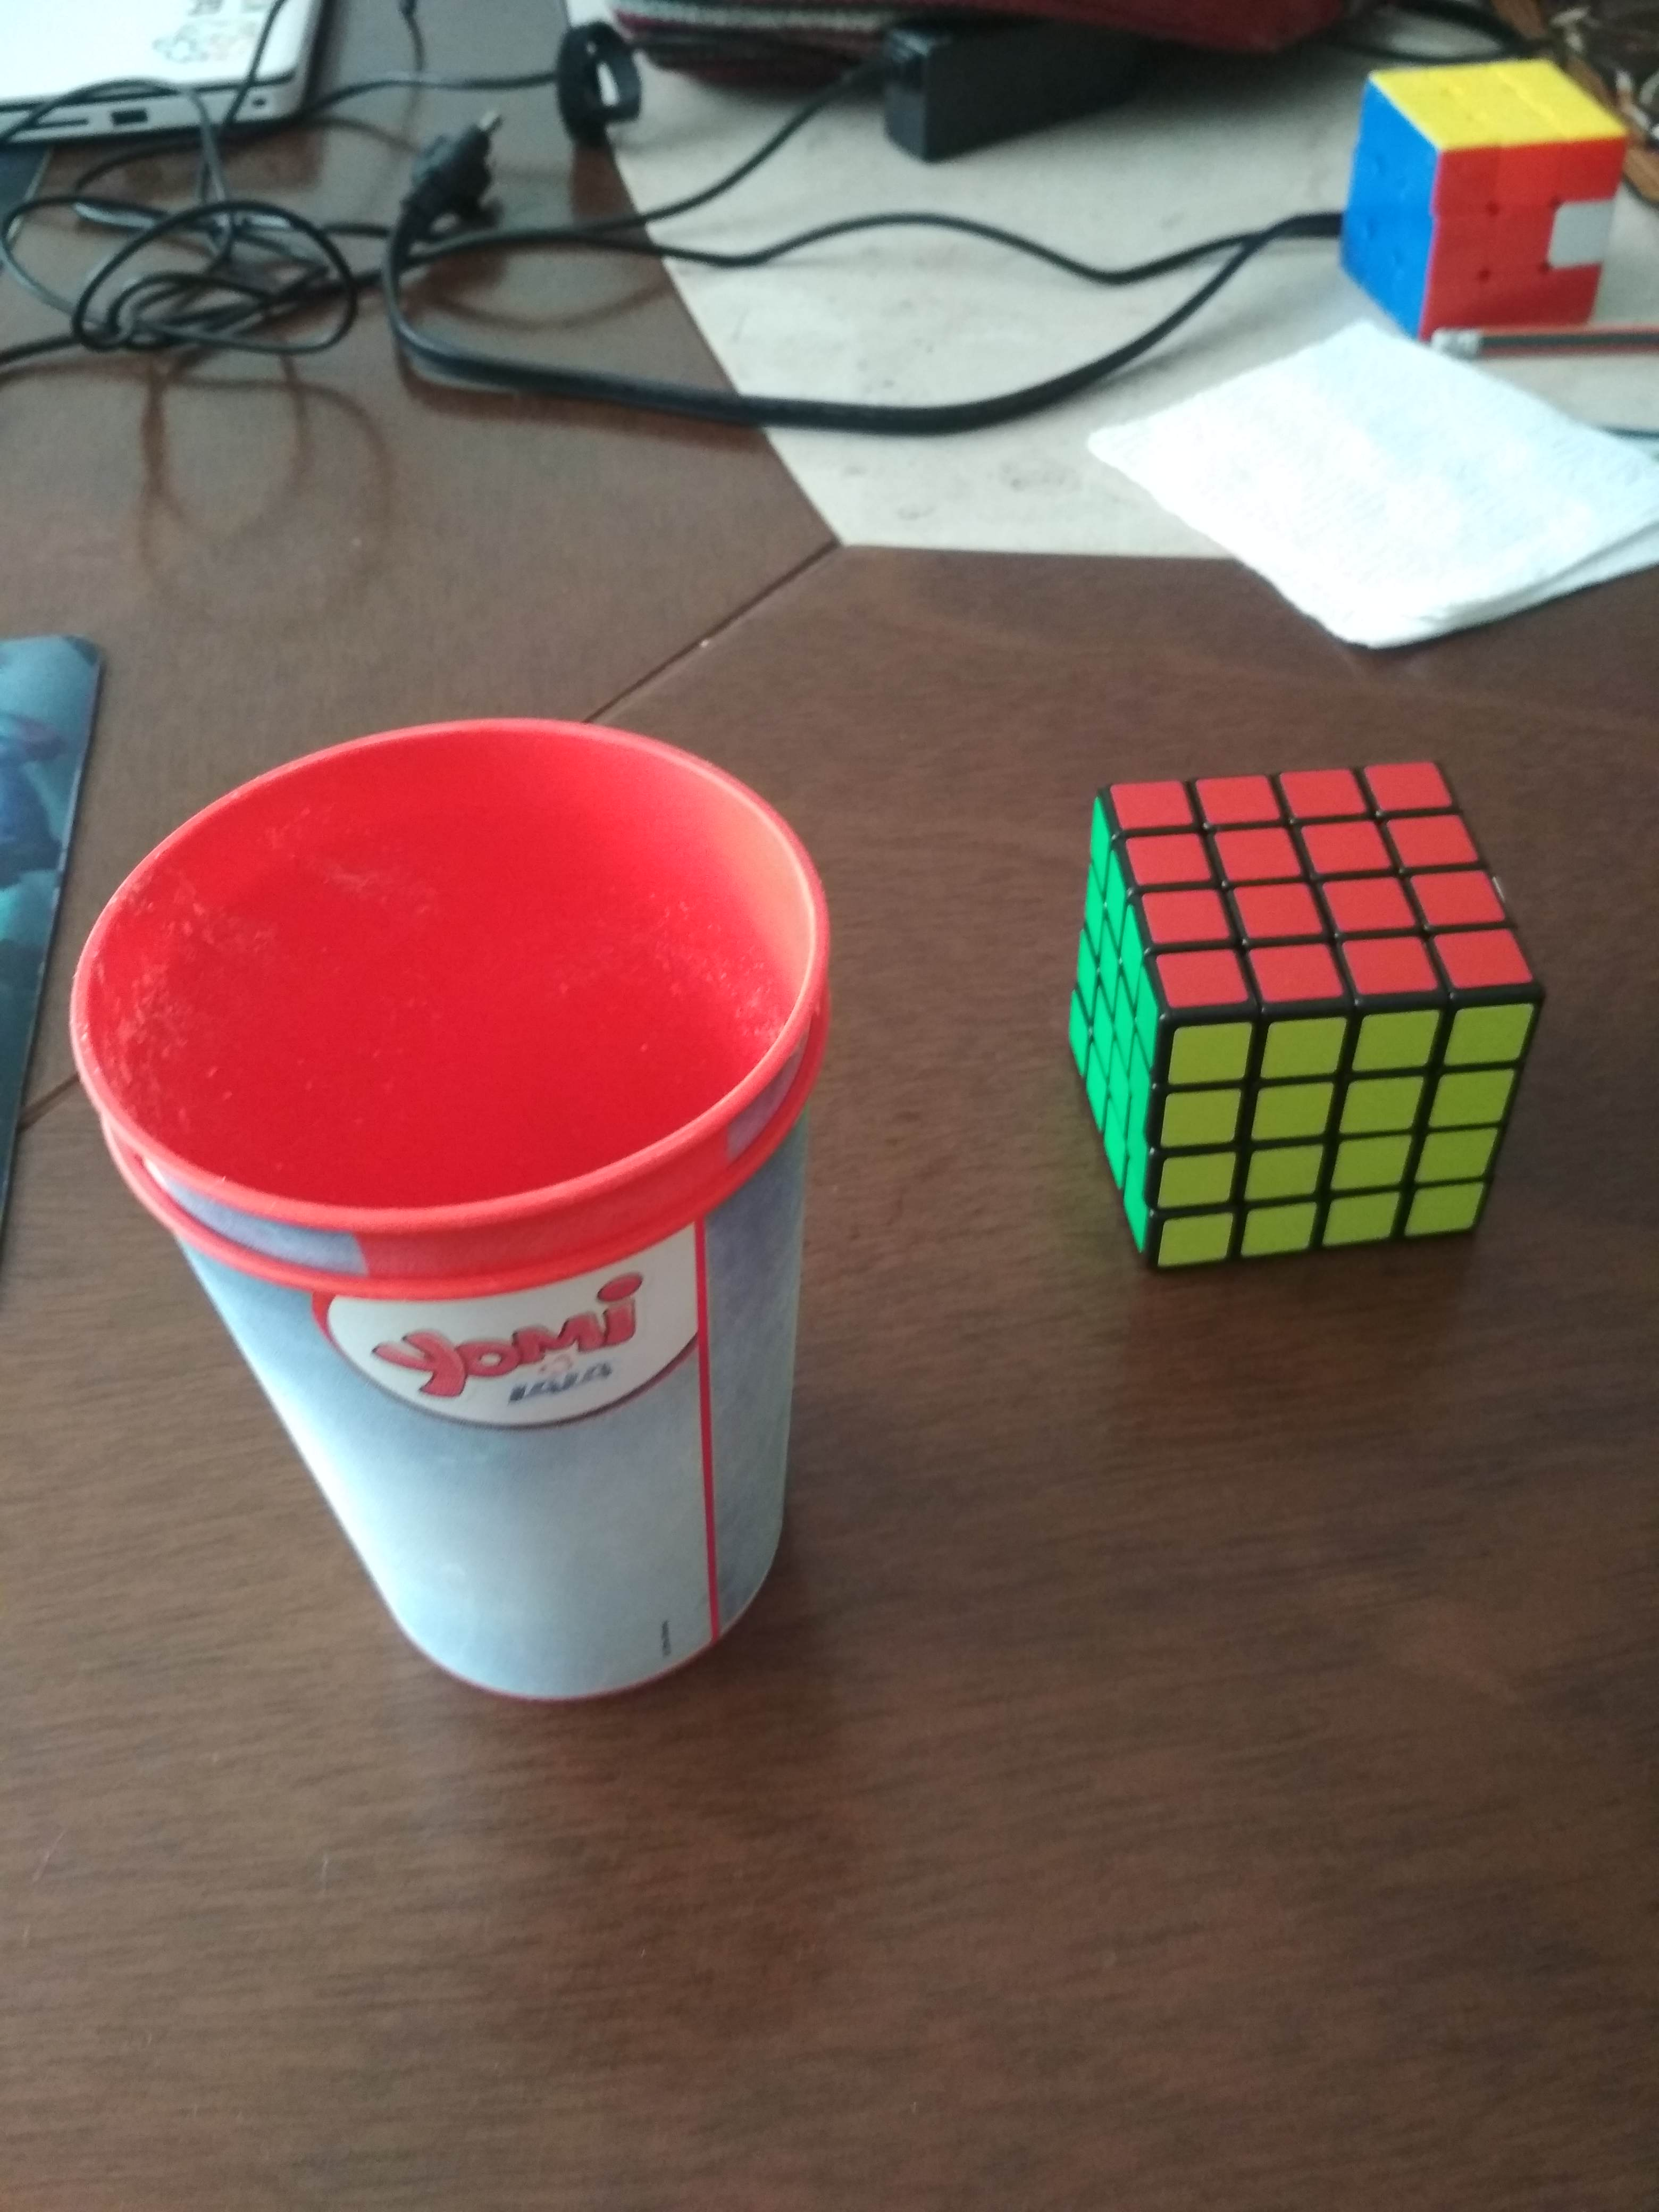glass: (52, 695, 852, 1735)
rubik_cube: (1040, 733, 1560, 1292), (1319, 42, 1640, 364)
